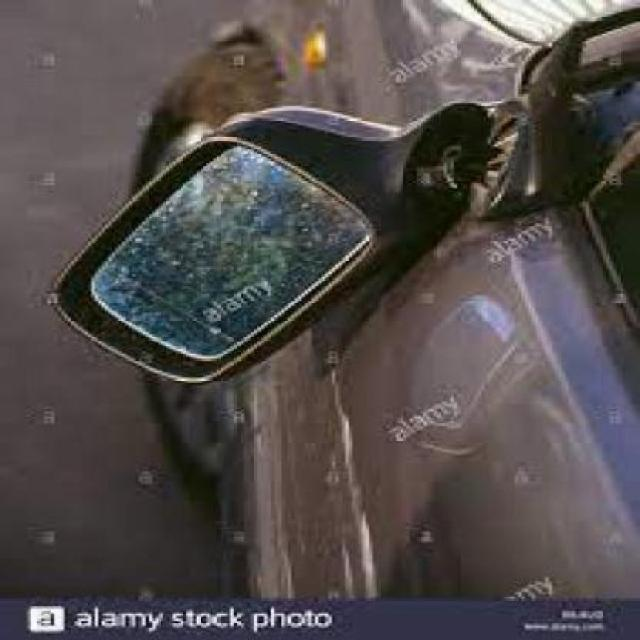Sidemirror-Damage: (68, 102, 522, 410)
